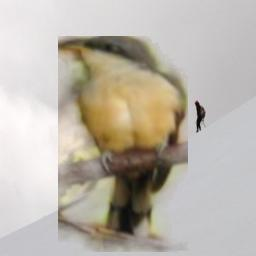Cuckoo: (58, 36, 188, 252)
